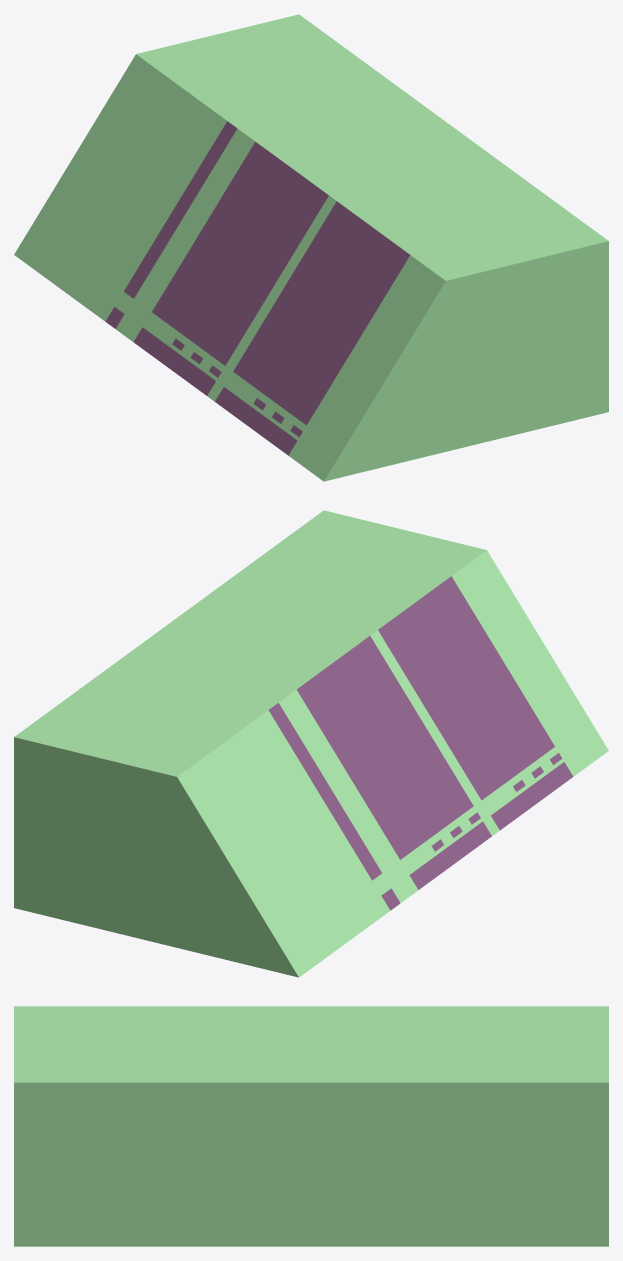
The model's file is building2.glb.
3 views of the same model, one above another, from view 1: azimuth 30°, elevation 25°; view 2: azimuth 150°, elevation 25°; view 3: azimuth 270°, elevation 25° (orthographic). The views are drawn at different scales.
Visible parts, largest first — view 1: building2; view 2: building2; view 3: building2.
Boxes of the visible parts, bbox=[...] form: building2: bbox=[14, 14, 608, 481]; building2: bbox=[14, 510, 608, 977]; building2: bbox=[14, 1006, 608, 1246].
Bounding box in the file's own units: 23.21 × 13.3 × 43.7.
